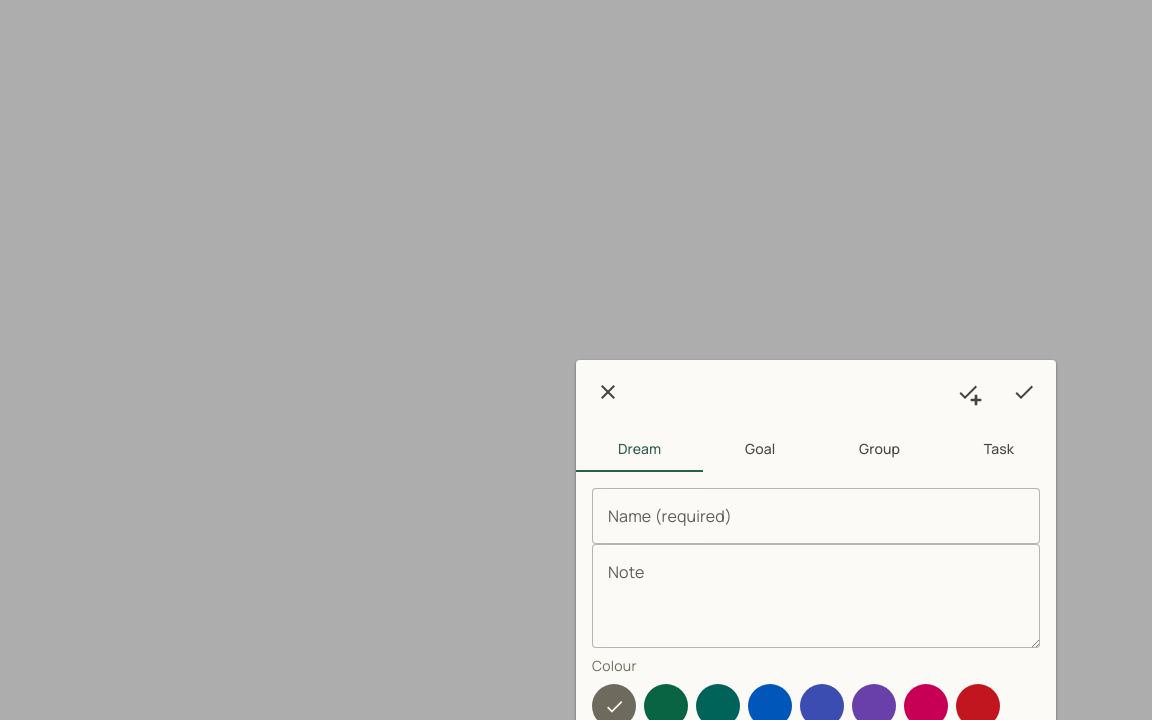
AddEntityDialog tab switching › preserves a tab's typed name after switching away and back
The image size is (1152, 720).
Type "Visit Japan" into the field labelled "Name (required)" at (816, 516), box [592,488,1040,544]
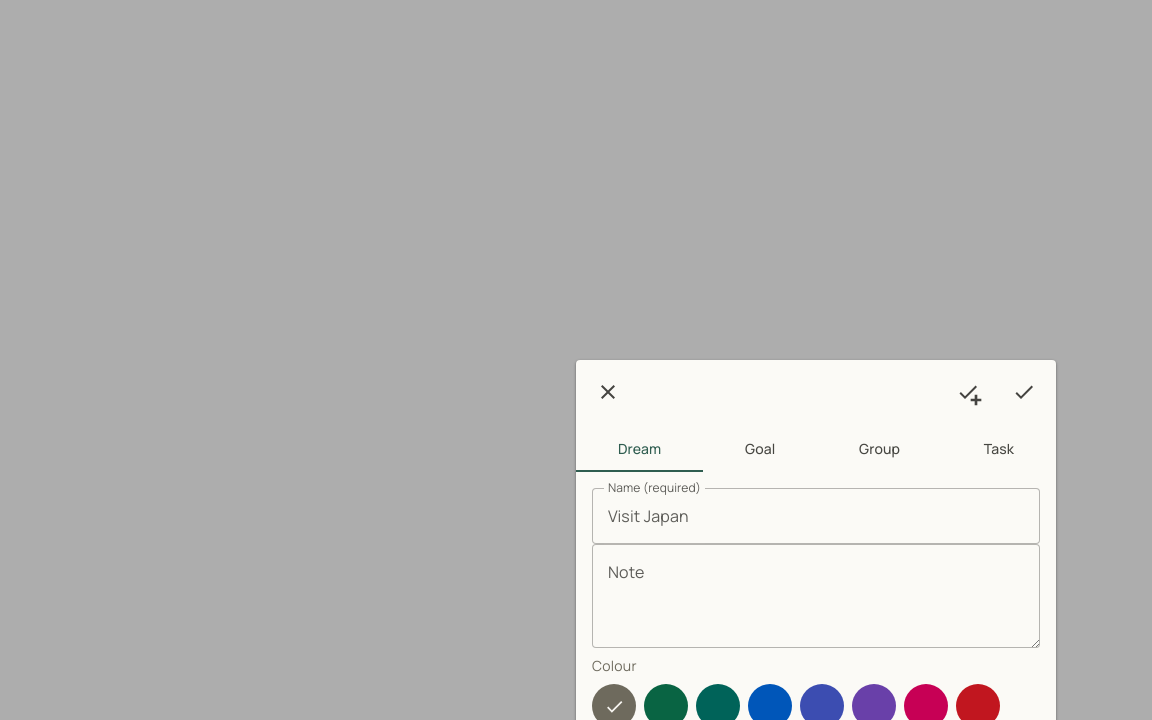
Click the tab "Task" at (999, 448), box [942,424,1056,472]
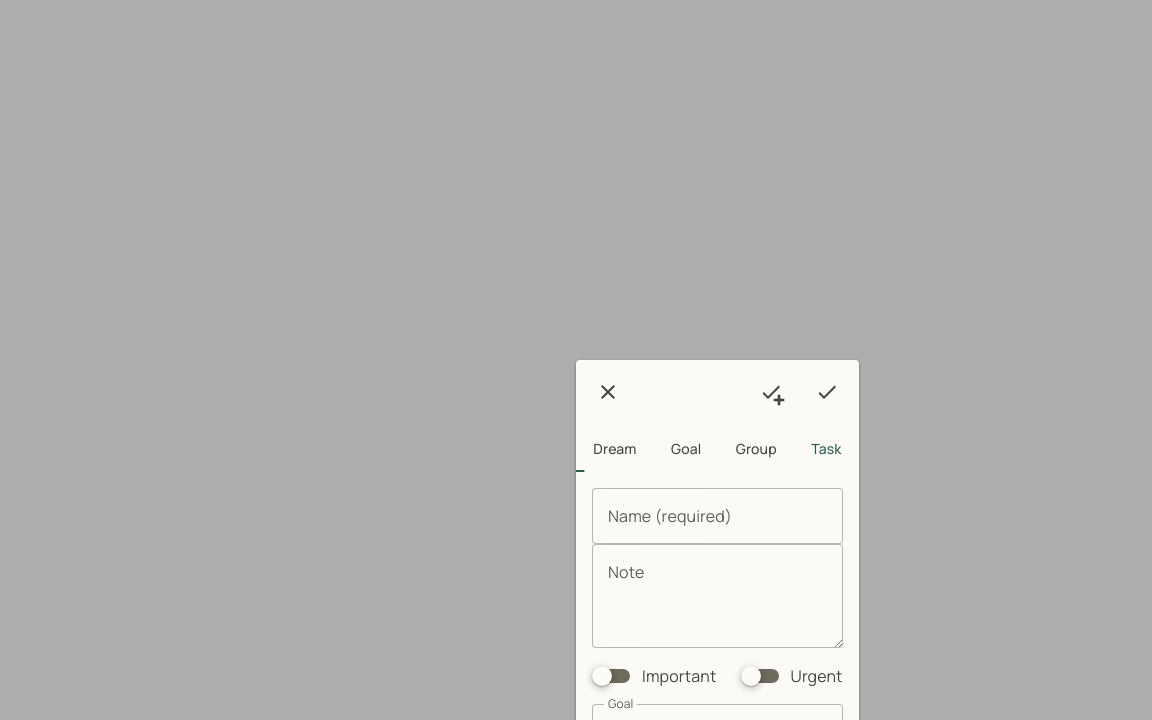
Click the tab "Dream" at (615, 448), box [576,424,654,472]
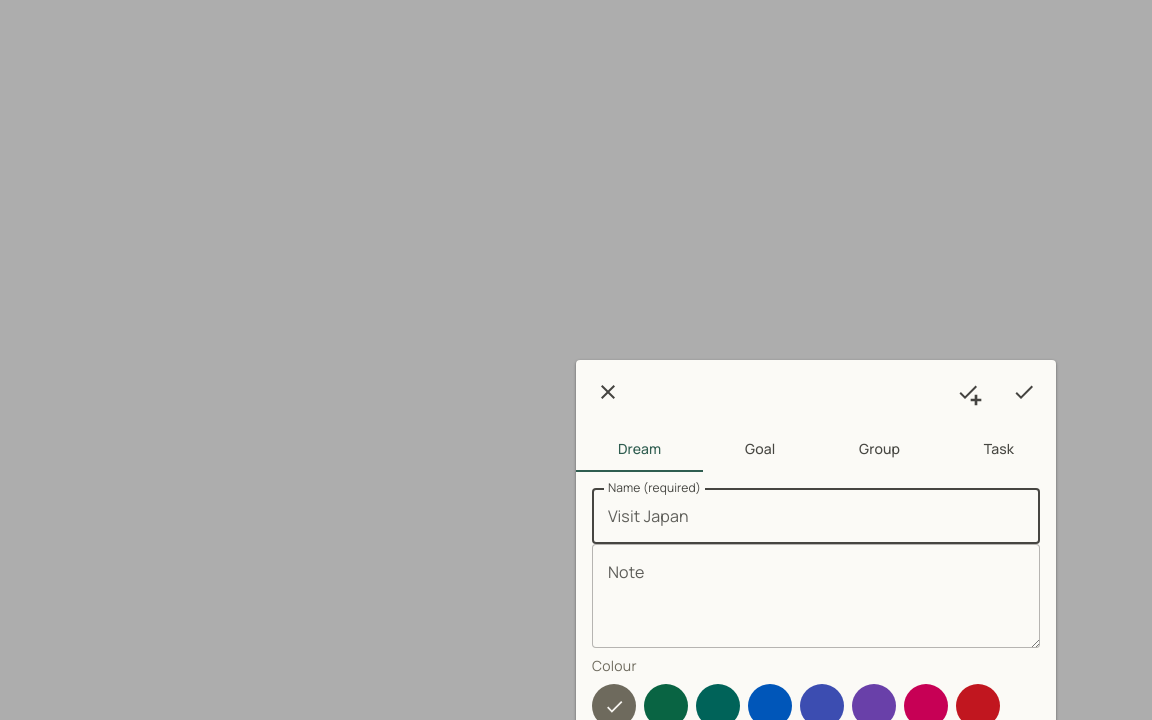
Expected: the field labelled "Name (required)" holds "Visit Japan", [592,488,1040,544]
